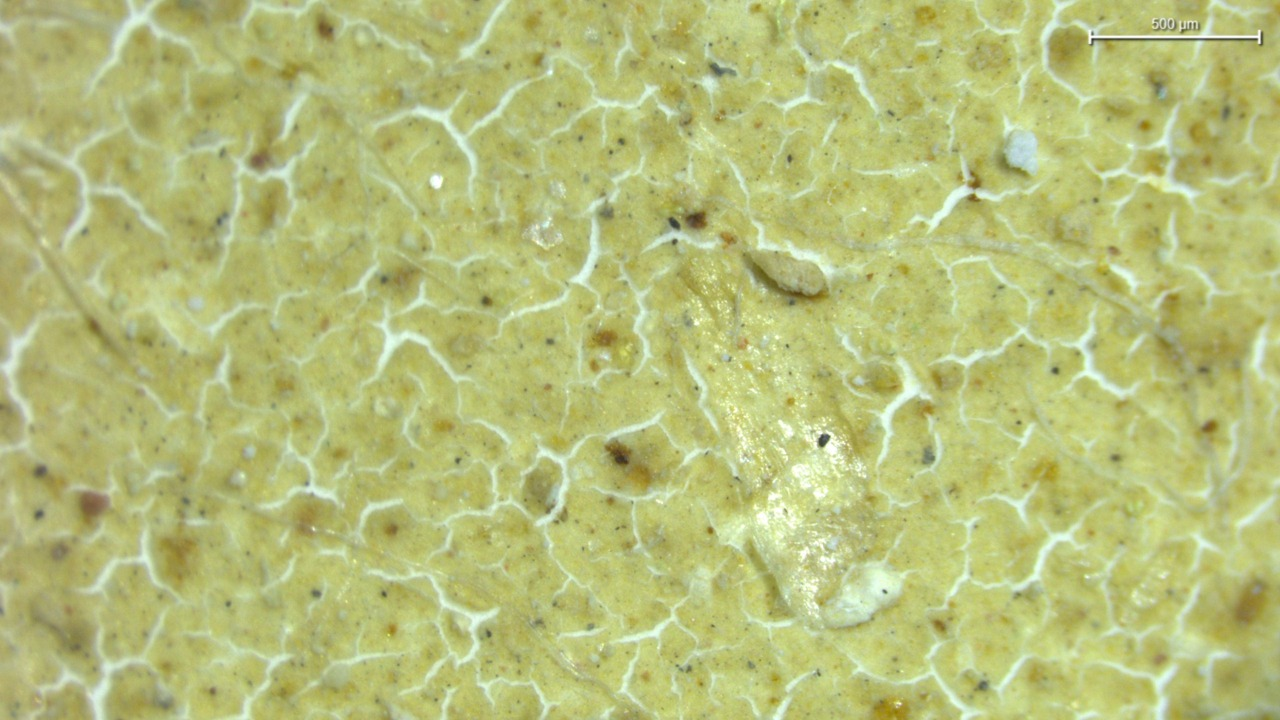microplastic_fragment: (745, 249, 827, 296), (1003, 128, 1038, 175)
